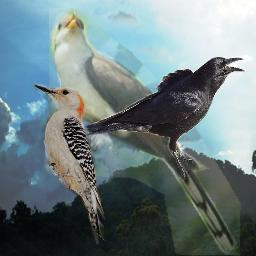Crow: (85, 56, 245, 181)
Cuckoo: (49, 8, 241, 255)
Woodpecker: (32, 77, 109, 244)
